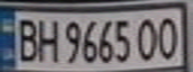5: (112, 16, 136, 64)
6: (78, 17, 100, 64), (97, 16, 118, 64)
9: (60, 17, 84, 64)
B: (12, 15, 42, 63)
H: (33, 16, 60, 63)
O: (154, 12, 184, 62), (133, 15, 160, 62)
